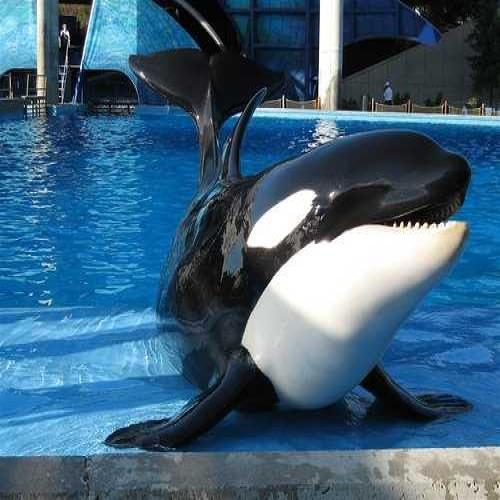killer_whale-endangered: (120, 29, 482, 421)
